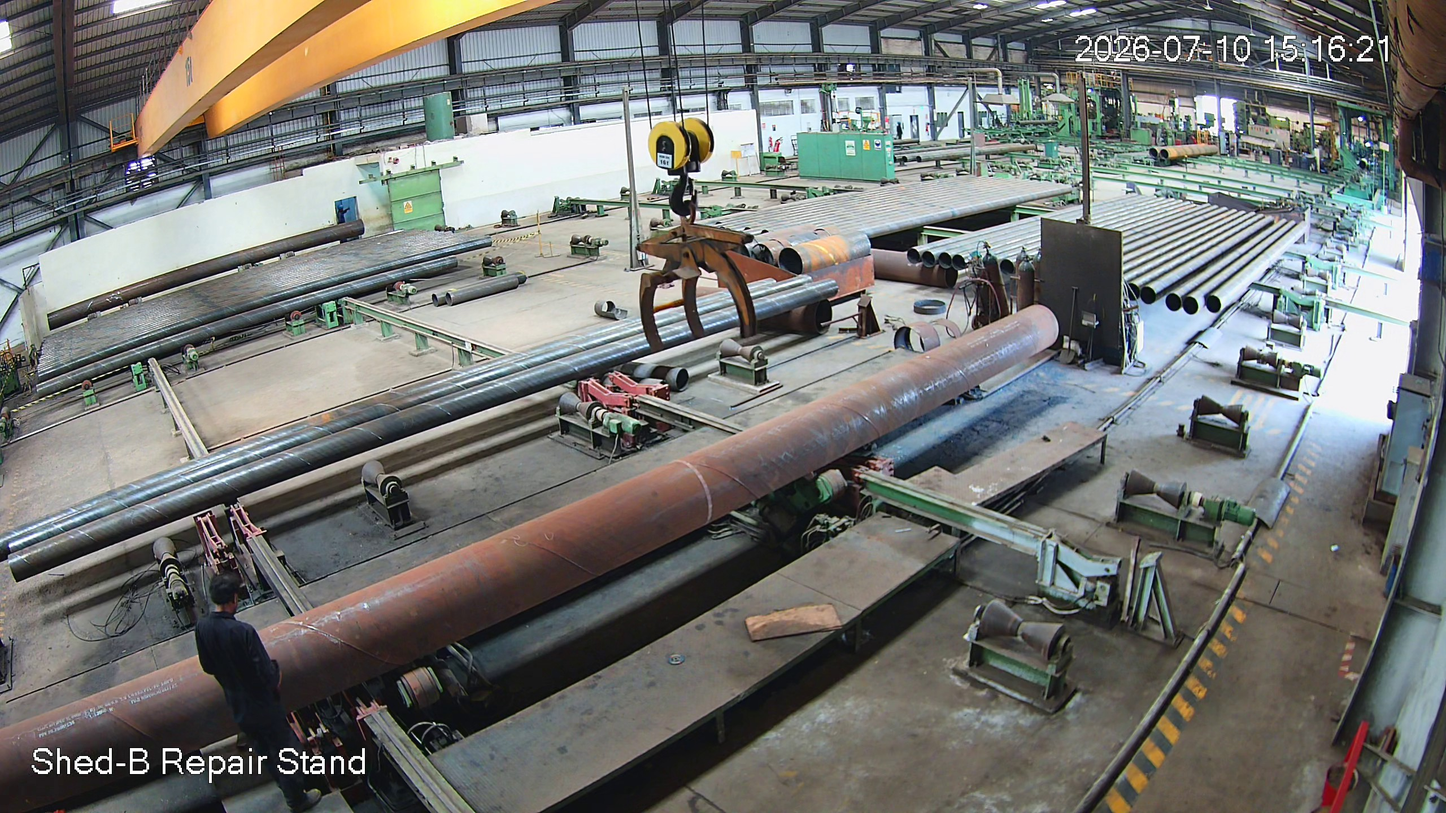Person: (189, 577, 361, 813)
